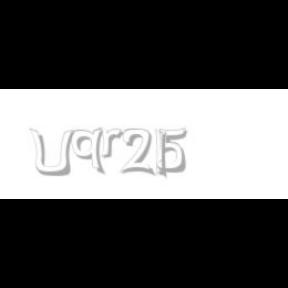2: (119, 128, 153, 176)
5: (156, 128, 188, 174)
U: (29, 128, 74, 178)
l: (155, 128, 171, 180)
q: (71, 128, 107, 176)
r: (100, 128, 126, 158)
